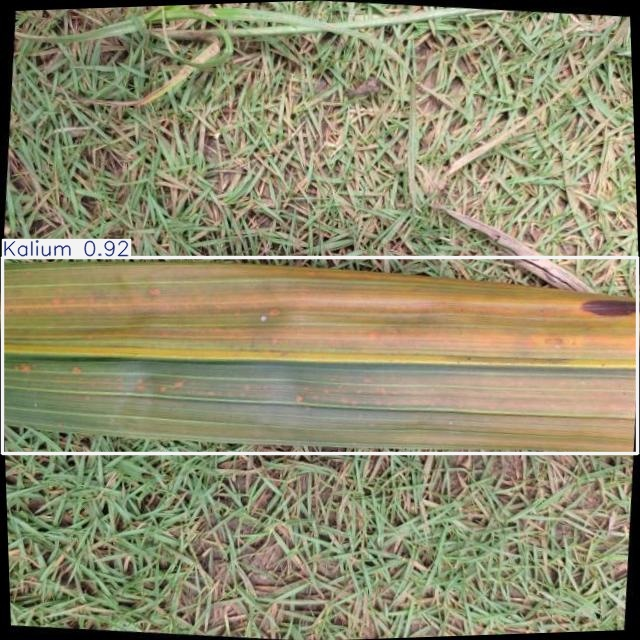Kalium: (2, 258, 637, 453)
